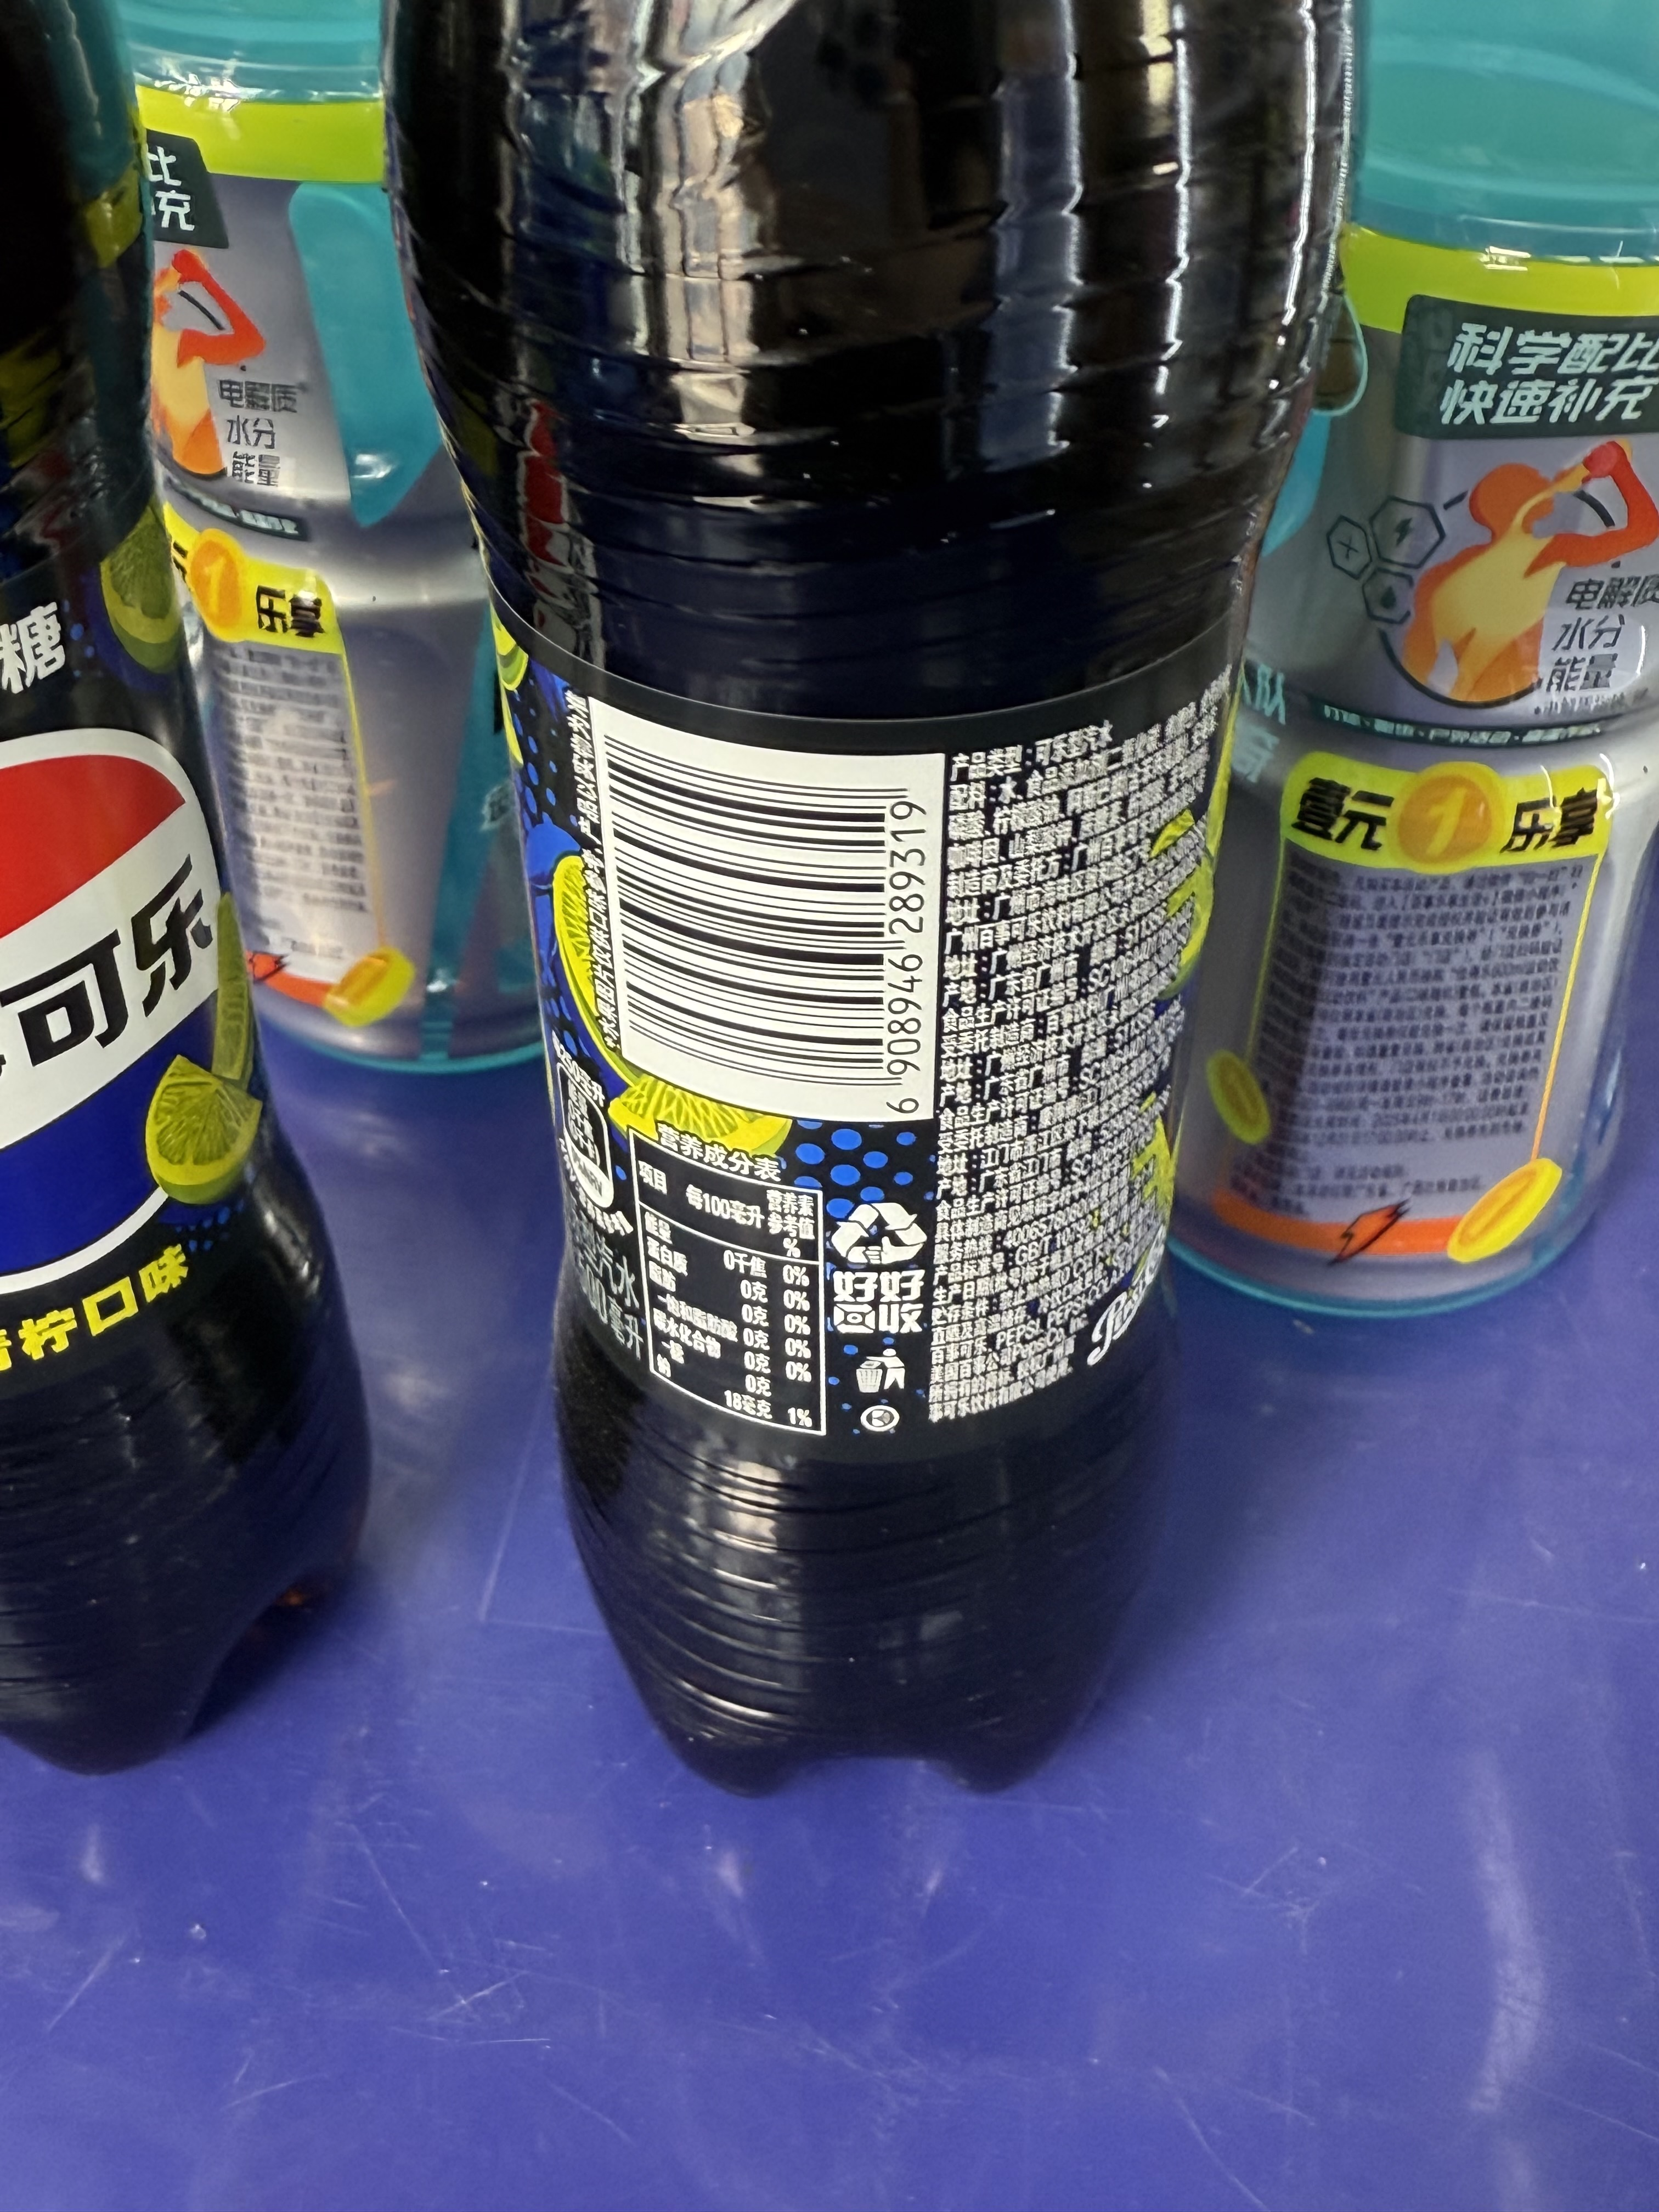bar: (591, 719, 920, 1099)
